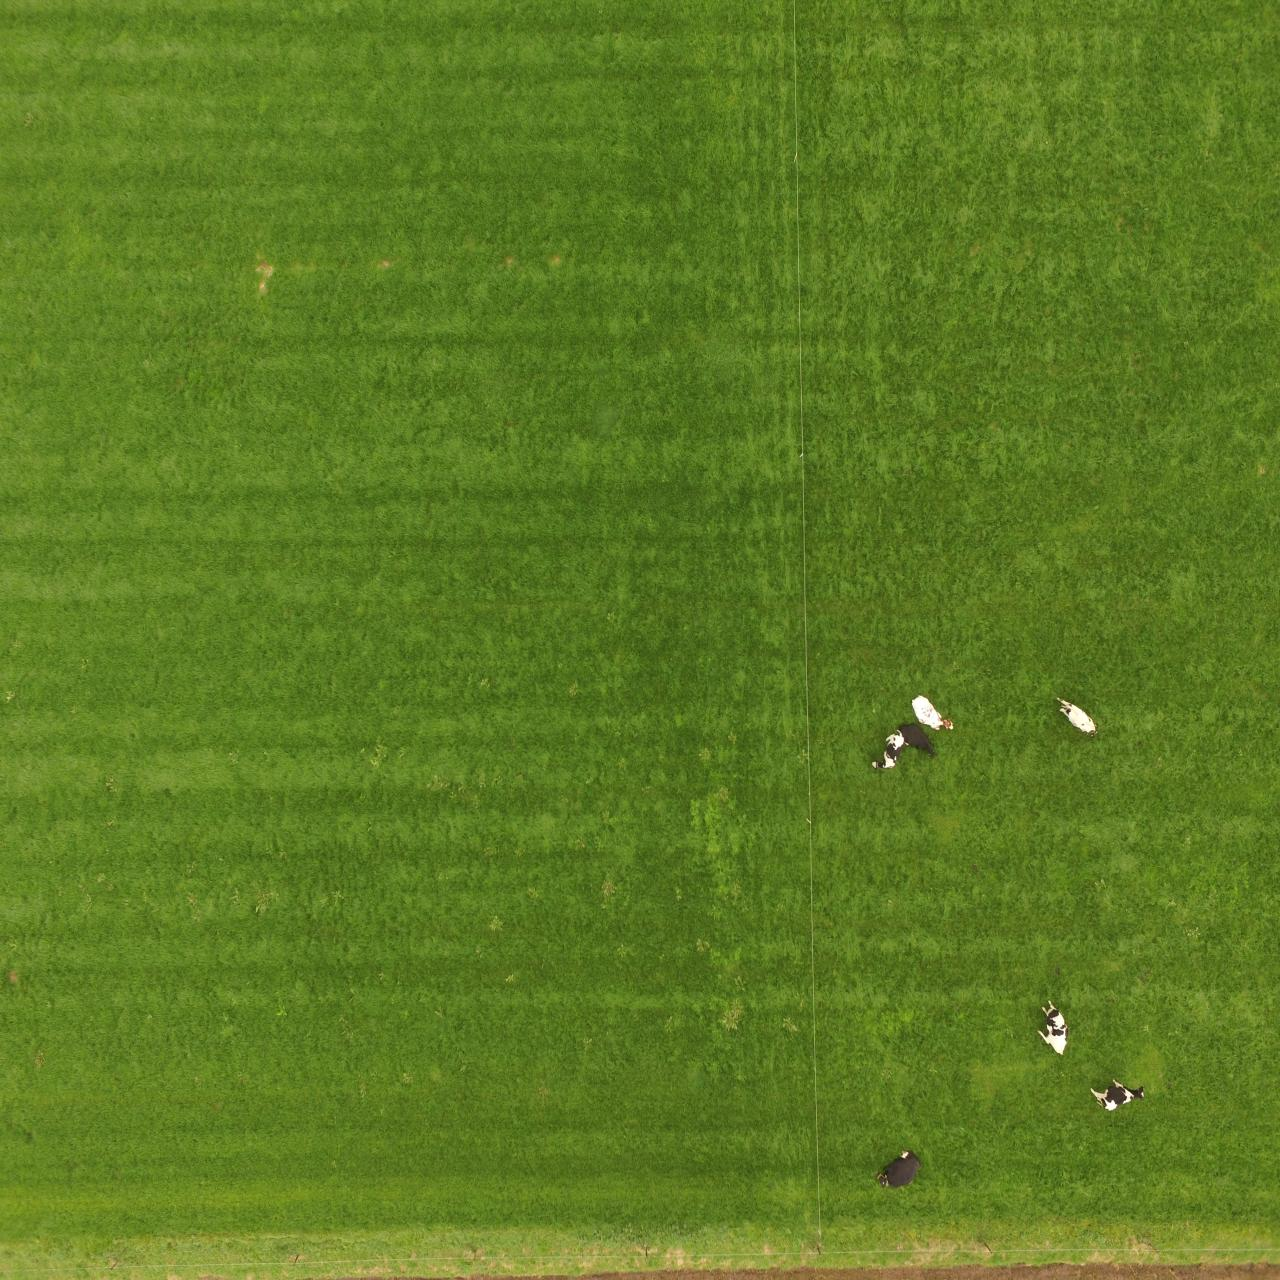cow: (906, 690, 975, 737), (873, 1146, 925, 1194), (1085, 1078, 1150, 1114), (1056, 694, 1103, 742), (1036, 996, 1068, 1064), (869, 728, 910, 777), (893, 721, 939, 762)
